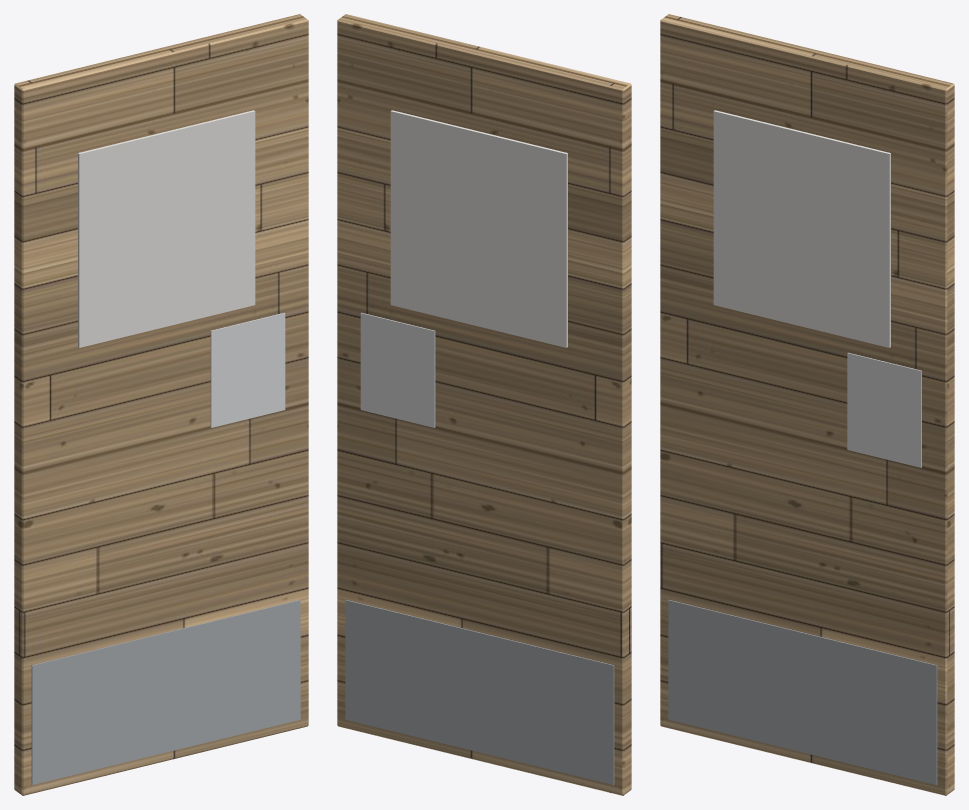
The model's file is door_double.glb.
3 views of the same model, side by side, from view 1: azimuth 30°, elevation 25°; view 2: azimuth 150°, elevation 25°; view 3: azimuth 330°, elevation 25° (orthographic).
Visible parts, largest first — view 1: door_double_laminate, door_double_frame, door_double_steel, door_double_chrome; view 2: door_double_laminate, door_double_frame, door_double_steel, door_double_chrome; view 3: door_double_laminate, door_double_frame, door_double_steel, door_double_chrome.
Part boxes in pixels (x1,y1,x2,y2): door_double_laminate: (14, 14, 308, 795); door_double_frame: (78, 110, 255, 347); door_double_steel: (31, 600, 300, 785); door_double_chrome: (210, 312, 285, 427); door_double_laminate: (337, 14, 631, 795); door_double_frame: (390, 110, 567, 347); door_double_steel: (345, 600, 614, 785); door_double_chrome: (360, 312, 435, 427); door_double_laminate: (660, 14, 954, 795); door_double_frame: (713, 110, 890, 347); door_double_steel: (668, 600, 937, 785); door_double_chrome: (847, 352, 921, 467).
Bounding box in the file's own units: 0.93 × 2.19 × 0.066.
5 materials, 1 textured.
